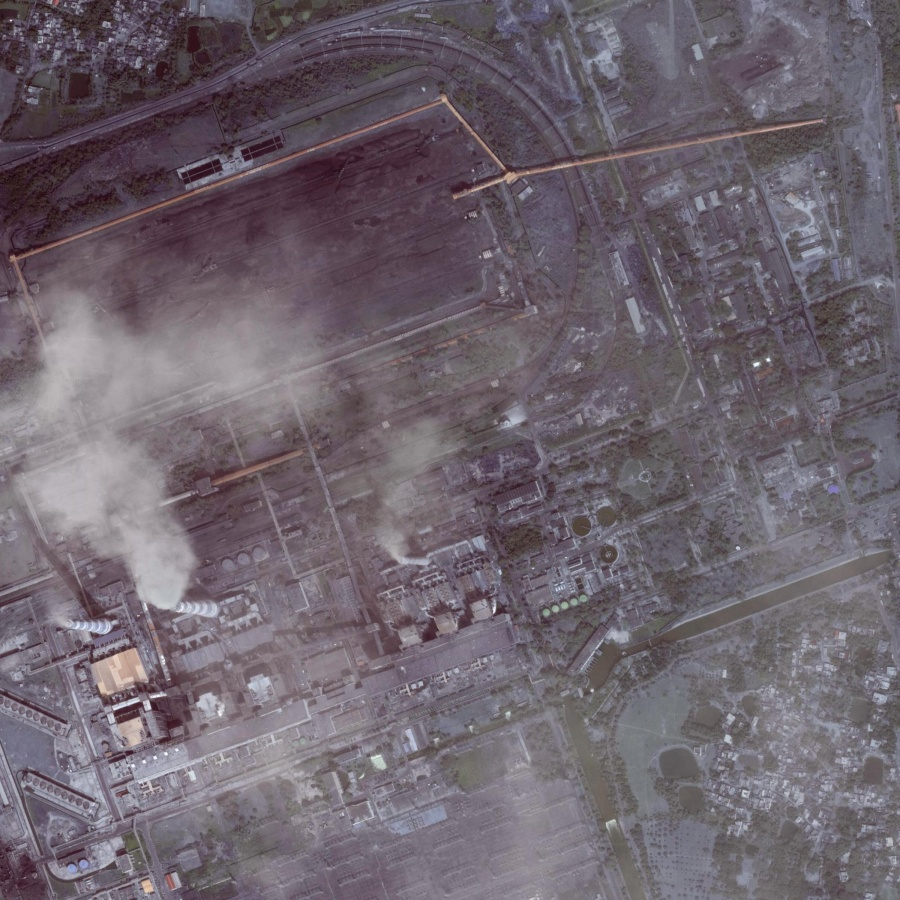PowerPlant: (15, 480, 499, 791)
